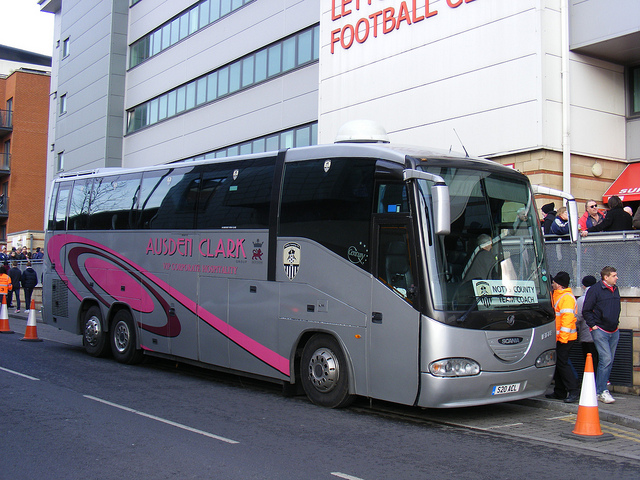Bus: (39, 117, 553, 408)
